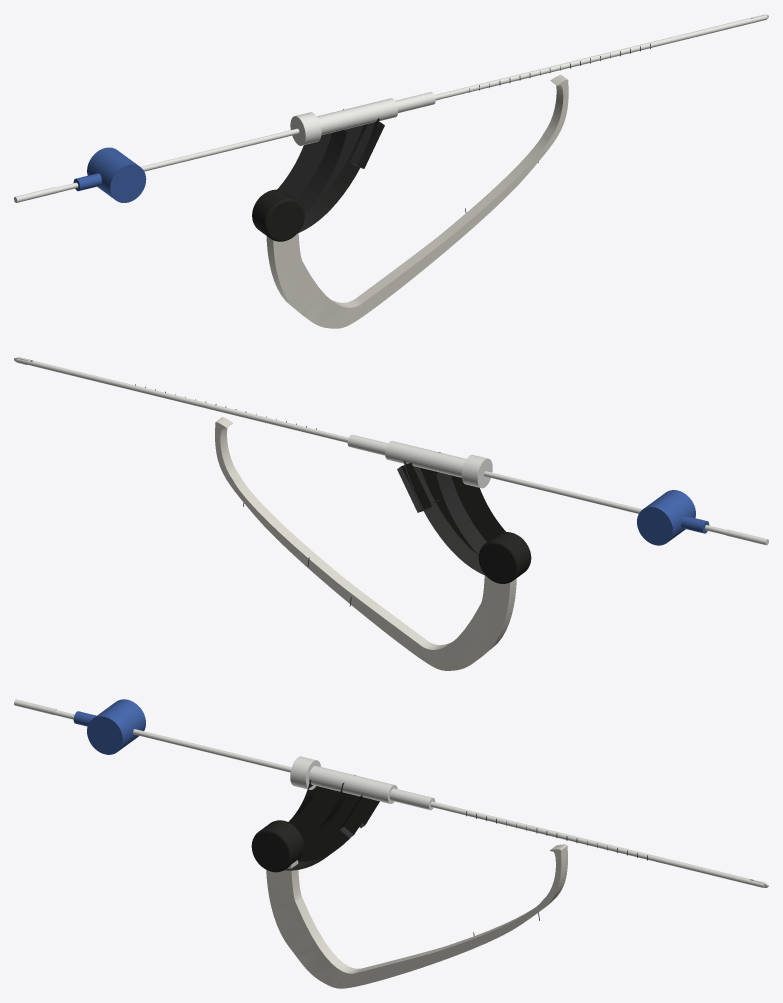
The model's file is DrillTim.fbx.
The picture shows the model from 3 angles, top to bottom: view 1: azimuth 30°, elevation 25°; view 2: azimuth 150°, elevation 25°; view 3: azimuth 330°, elevation 25°; orthographic projection.
Visible parts, largest first — view 1: BezierCurve, SIDE_RELEASE_HANDLE_black_curved_body, REMOVABLE_FLIPCUTTER_DRILL_main_shaft_D_3_5mm, REMOVABLE_FLIPCUTTER_DRILL_blue_round_handle.002, circle, STEPPED_GUIDE_SLEEVE_outer_body_3_5mm_bore, STEPPED_GUIDE_SLEEVE_TIP_outer_7_0mm_depth_stop.001, SIDE_RELEASE_HANDLE_raftimate_lever; view 2: BezierCurve, SIDE_RELEASE_HANDLE_black_curved_body, REMOVABLE_FLIPCUTTER_DRILL_main_shaft_D_3_5mm, REMOVABLE_FLIPCUTTER_DRILL_blue_round_handle.002, circle, STEPPED_GUIDE_SLEEVE_outer_body_3_5mm_bore, STEPPED_GUIDE_SLEEVE_TIP_outer_7_0mm_depth_stop.001, SIDE_RELEASE_HANDLE_raftimate_lever.001; view 3: BezierCurve, SIDE_RELEASE_HANDLE_black_curved_body, REMOVABLE_FLIPCUTTER_DRILL_main_shaft_D_3_5mm, REMOVABLE_FLIPCUTTER_DRILL_blue_round_handle.002, circle, STEPPED_GUIDE_SLEEVE_outer_body_3_5mm_bore, SIDE_RELEASE_HANDLE_raftimate_lever, STEPPED_GUIDE_SLEEVE_TIP_outer_7_0mm_depth_stop.001, REMOVABLE_FLIPCUTTER_DRILL_short_reamer_body.
Boxes of the visible parts, x1,y1,x2,y2 form: BezierCurve: [266, 74, 568, 328]; SIDE_RELEASE_HANDLE_black_curved_body: [277, 109, 379, 233]; REMOVABLE_FLIPCUTTER_DRILL_main_shaft_D_3_5mm: [56, 15, 766, 192]; REMOVABLE_FLIPCUTTER_DRILL_blue_round_handle.002: [87, 147, 146, 202]; circle: [252, 189, 304, 241]; STEPPED_GUIDE_SLEEVE_outer_body_3_5mm_bore: [317, 98, 397, 135]; STEPPED_GUIDE_SLEEVE_TIP_outer_7_0mm_depth_stop.001: [290, 112, 321, 145]; SIDE_RELEASE_HANDLE_raftimate_lever: [350, 122, 384, 168]; BezierCurve: [215, 417, 516, 670]; SIDE_RELEASE_HANDLE_black_curved_body: [403, 452, 506, 575]; REMOVABLE_FLIPCUTTER_DRILL_main_shaft_D_3_5mm: [16, 357, 726, 535]; REMOVABLE_FLIPCUTTER_DRILL_blue_round_handle.002: [637, 490, 695, 545]; circle: [478, 532, 531, 583]; STEPPED_GUIDE_SLEEVE_outer_body_3_5mm_bore: [385, 441, 465, 477]; STEPPED_GUIDE_SLEEVE_TIP_outer_7_0mm_depth_stop.001: [461, 454, 492, 488]; SIDE_RELEASE_HANDLE_raftimate_lever.001: [397, 463, 431, 512]; BezierCurve: [266, 844, 567, 988]; SIDE_RELEASE_HANDLE_black_curved_body: [284, 775, 374, 870]; REMOVABLE_FLIPCUTTER_DRILL_main_shaft_D_3_5mm: [54, 710, 764, 887]; REMOVABLE_FLIPCUTTER_DRILL_blue_round_handle.002: [87, 699, 145, 754]; circle: [251, 820, 303, 872]; STEPPED_GUIDE_SLEEVE_outer_body_3_5mm_bore: [308, 765, 397, 803]; SIDE_RELEASE_HANDLE_raftimate_lever: [340, 795, 374, 837]; STEPPED_GUIDE_SLEEVE_TIP_outer_7_0mm_depth_stop.001: [290, 756, 320, 789]; REMOVABLE_FLIPCUTTER_DRILL_short_reamer_body: [389, 788, 435, 810].
Size of the model in its own units: 1424 by 403 by 76.
